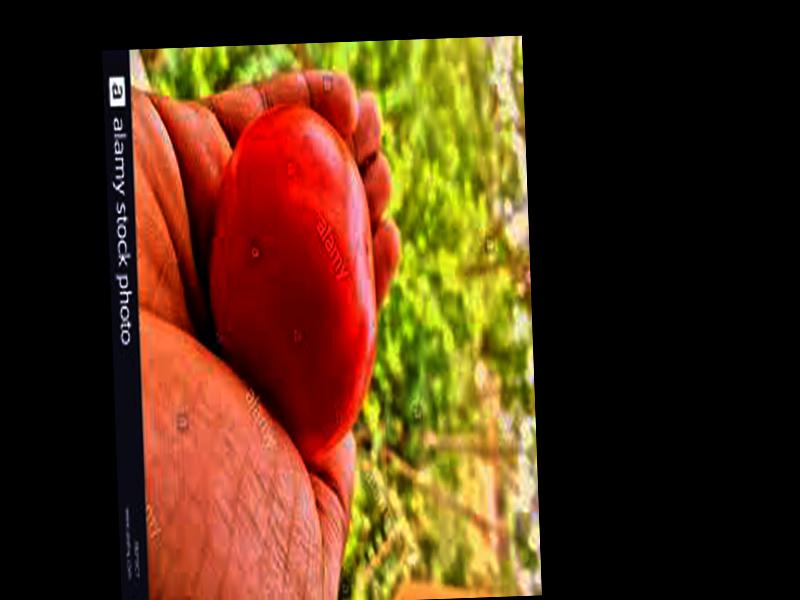Tomato: (204, 104, 379, 455)
